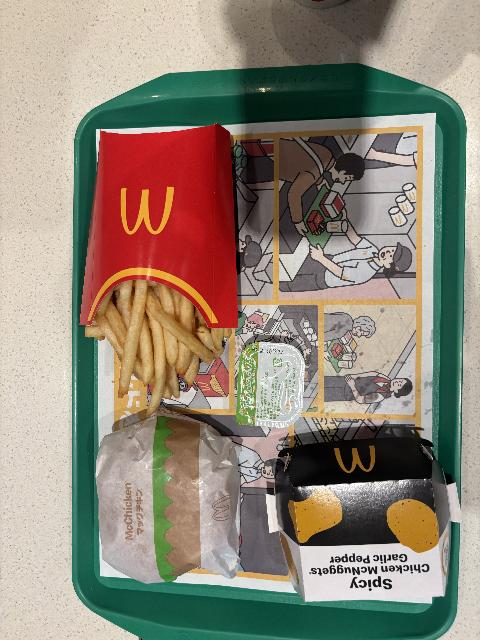burger: (94, 416, 243, 584)
fries: (78, 128, 241, 410)
nuggets: (266, 434, 461, 606)
sauce: (236, 341, 305, 427)
